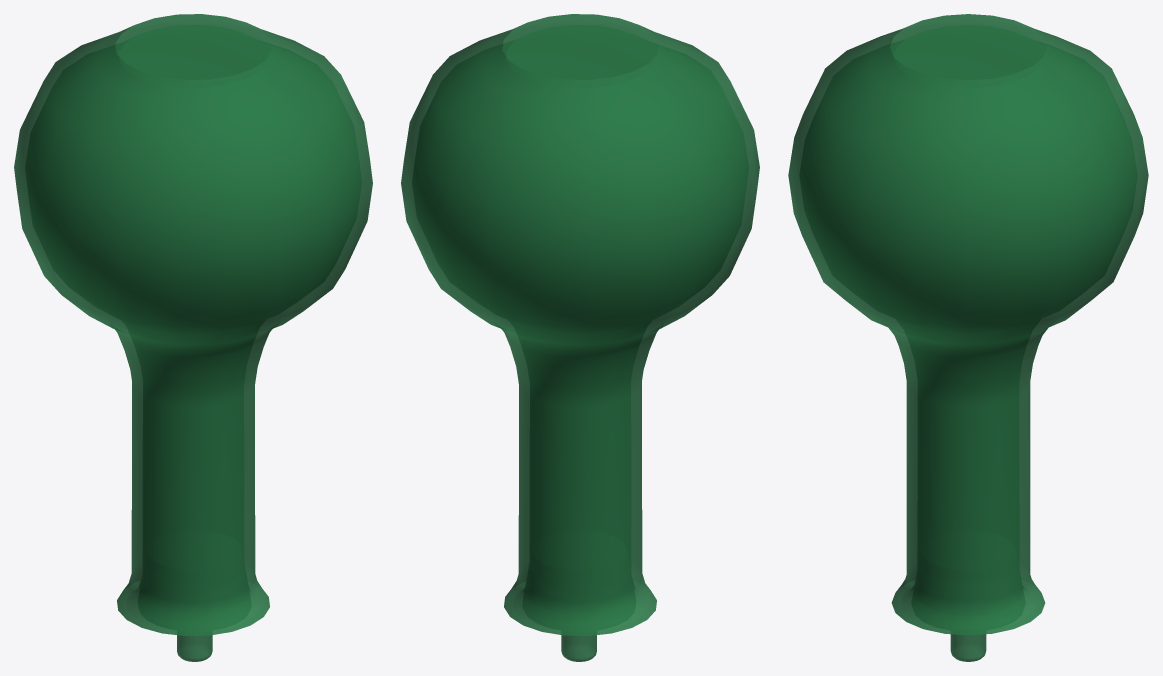
The model's file is bottiglia.fbx.
3 renders of one model, left to right at view 1: azimuth 30°, elevation 25°; view 2: azimuth 150°, elevation 25°; view 3: azimuth 270°, elevation 25°, orthographic.
Parts seen in each view (by area): view 1: bottiglia; view 2: bottiglia; view 3: bottiglia.
Part boxes in pixels (bbox=[...]): bottiglia: bbox=[14, 14, 372, 661]; bottiglia: bbox=[401, 14, 759, 661]; bottiglia: bbox=[788, 14, 1148, 661].
Bounding box in the file's own units: 0.2063 × 0.3845 × 0.2063.
